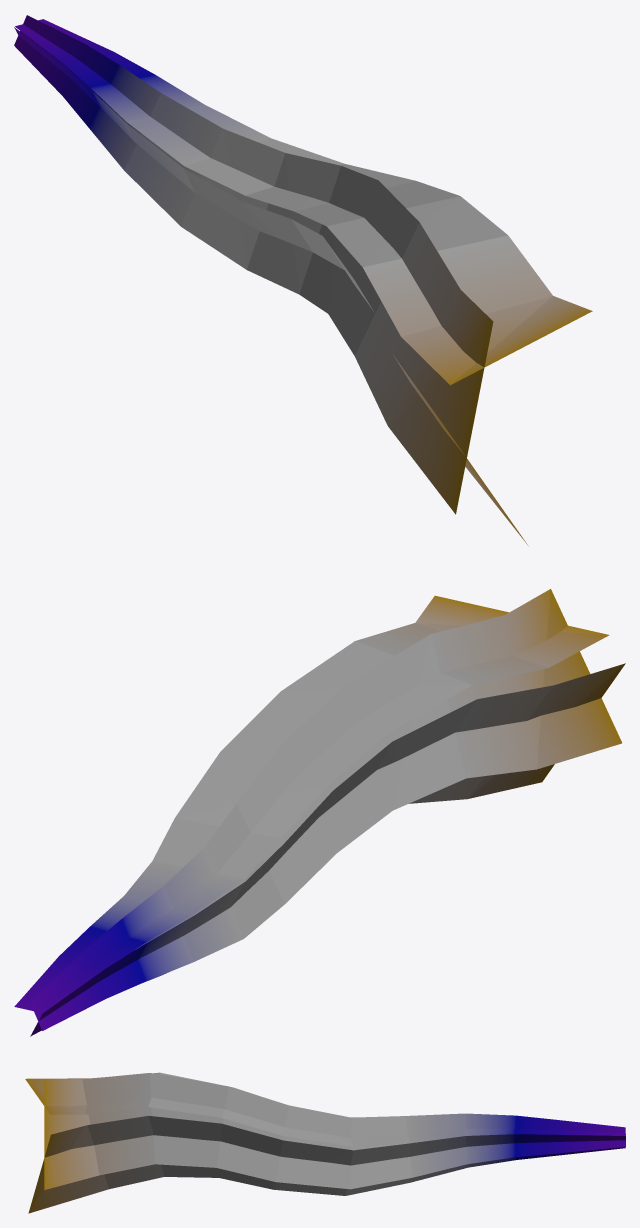
3 renders of one model, top to bottom at view 1: azimuth 30°, elevation 25°; view 2: azimuth 150°, elevation 25°; view 3: azimuth 270°, elevation 25°, orthographic. The views are drawn at different scales.
Parts seen in each view (by area): view 1: Group[0]; view 2: Group[0]; view 3: Group[0].
Part boxes in pixels (bbox=[...]): Group[0]: bbox=[14, 15, 592, 544]; Group[0]: bbox=[14, 589, 625, 1036]; Group[0]: bbox=[25, 1072, 625, 1213].
Bounding box in the file's own units: 2.26 × 2.51 × 9.96.
